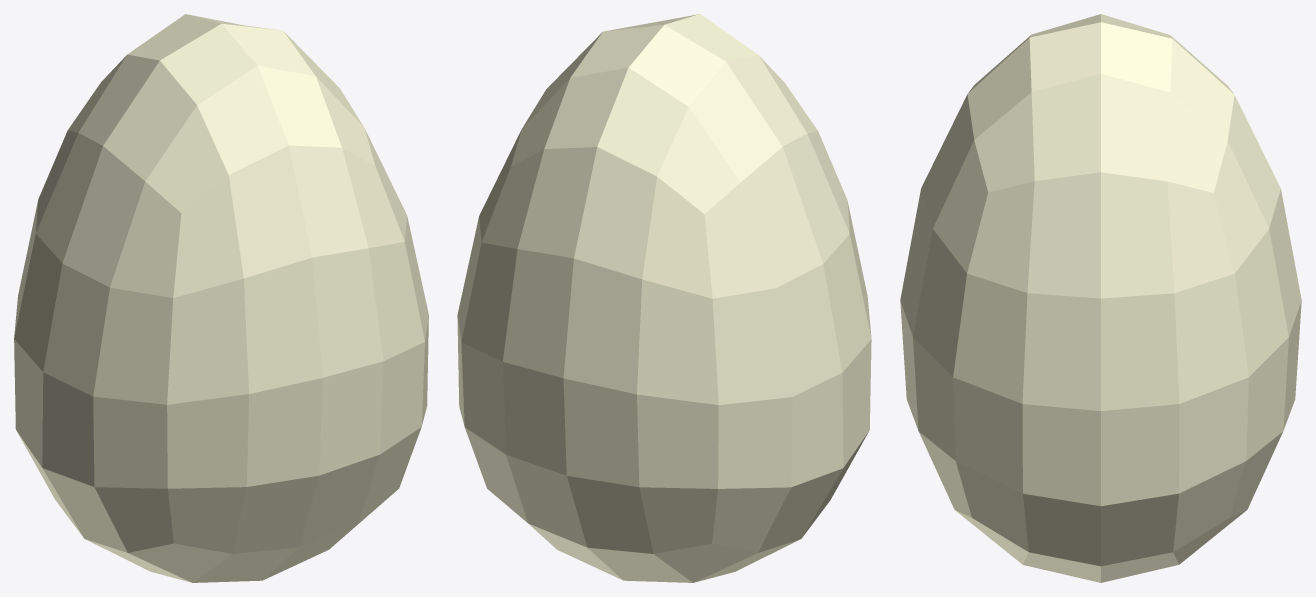
Rendered from egg.glb.
3 views of the same model, side by side, from view 1: azimuth 30°, elevation 25°; view 2: azimuth 150°, elevation 25°; view 3: azimuth 270°, elevation 25° (orthographic).
Parts seen in each view (by area): view 1: egg; view 2: egg; view 3: egg.
Boxes of the visible parts, bbox=[...] form: egg: bbox=[14, 14, 428, 582]; egg: bbox=[457, 14, 871, 582]; egg: bbox=[900, 14, 1301, 582].
Bounding box in the file's own units: 0.6829 × 0.9944 × 0.668.
Materials: 1 (1 with a texture image).
